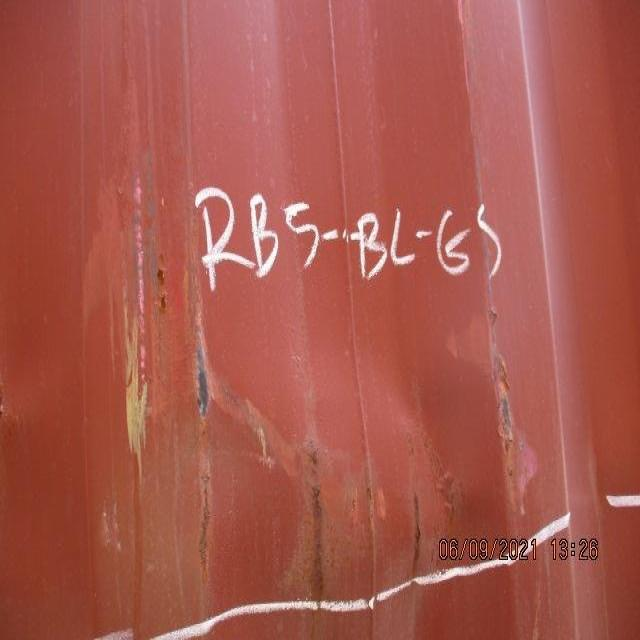dent: (79, 187, 615, 615)
